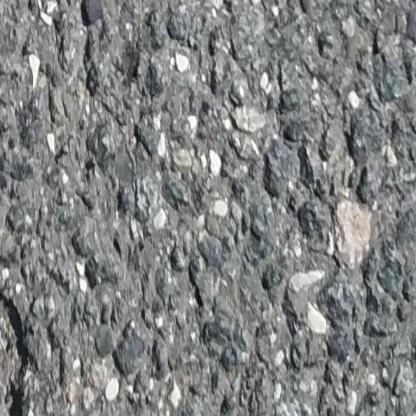Cracks: (0, 279, 36, 416)
